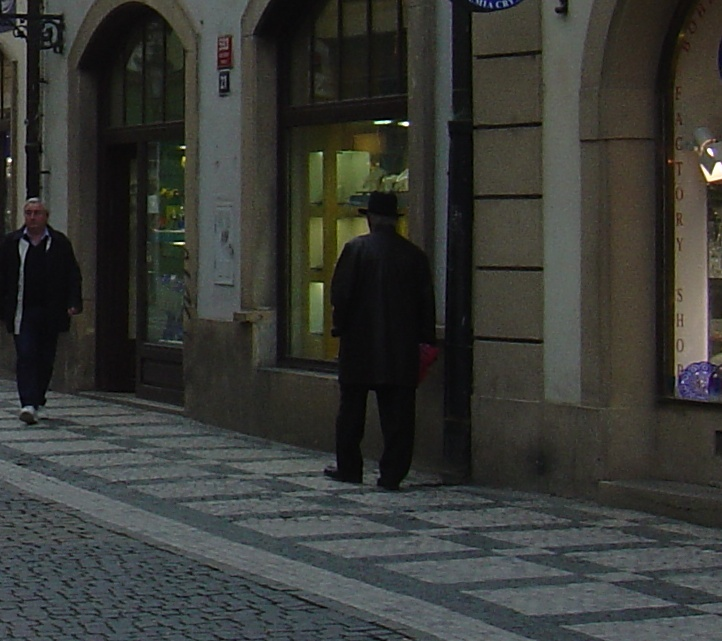person: (328, 190, 431, 491)
